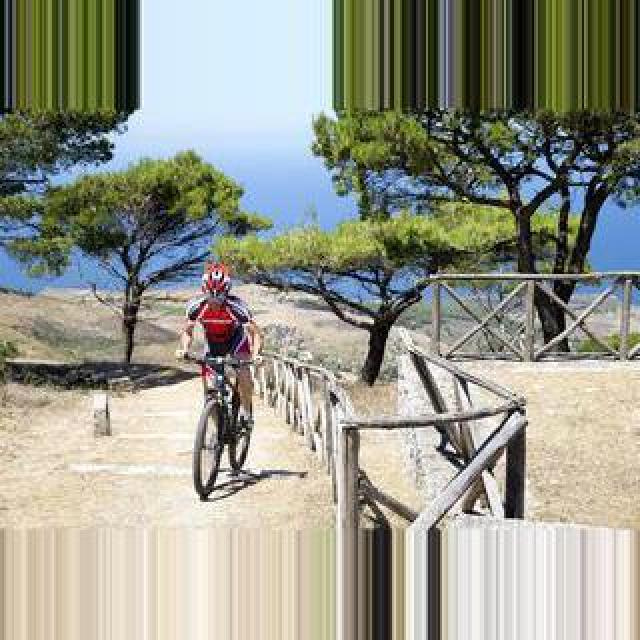MC-Bike: (182, 258, 264, 474)
Person: (186, 352, 260, 500)
